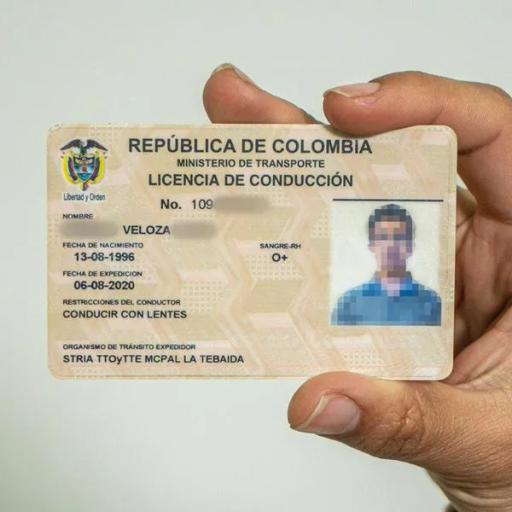colombia: (123, 138, 379, 158)
escudo de colombia: (56, 136, 122, 207)
fechaexpedicion: (70, 277, 144, 291)
fechanacimiento: (71, 252, 153, 271)
foto: (333, 205, 441, 327)
ministerio de transporte: (172, 154, 335, 170)
nombre: (60, 220, 227, 241)
numerolic: (156, 191, 291, 216)
tarjeta conduccion: (47, 125, 459, 382)
titulo licencia: (146, 170, 364, 190)
